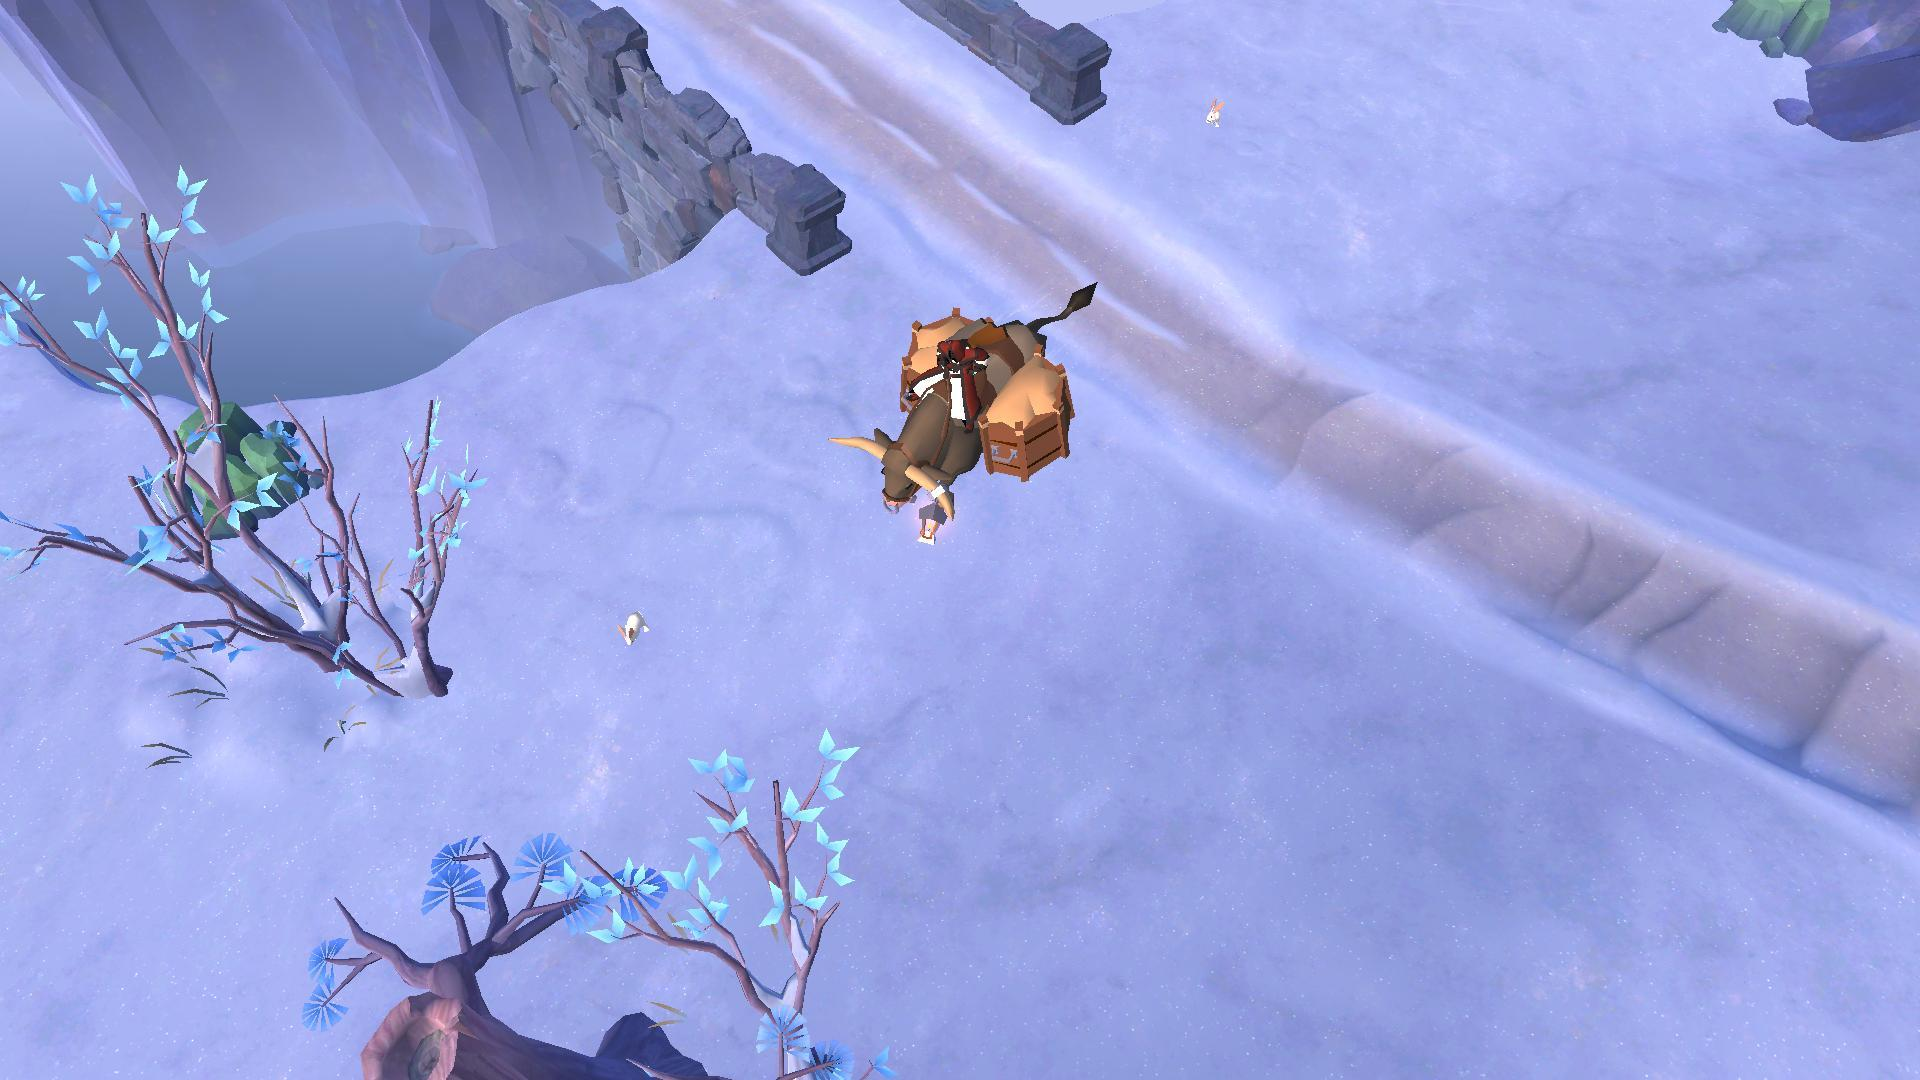rock_t3: (164, 388, 315, 530), (1684, 0, 1861, 58)
